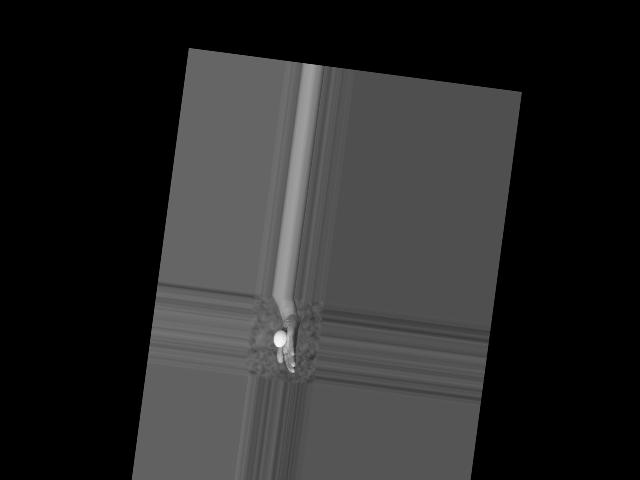egg: (272, 329, 288, 347)
